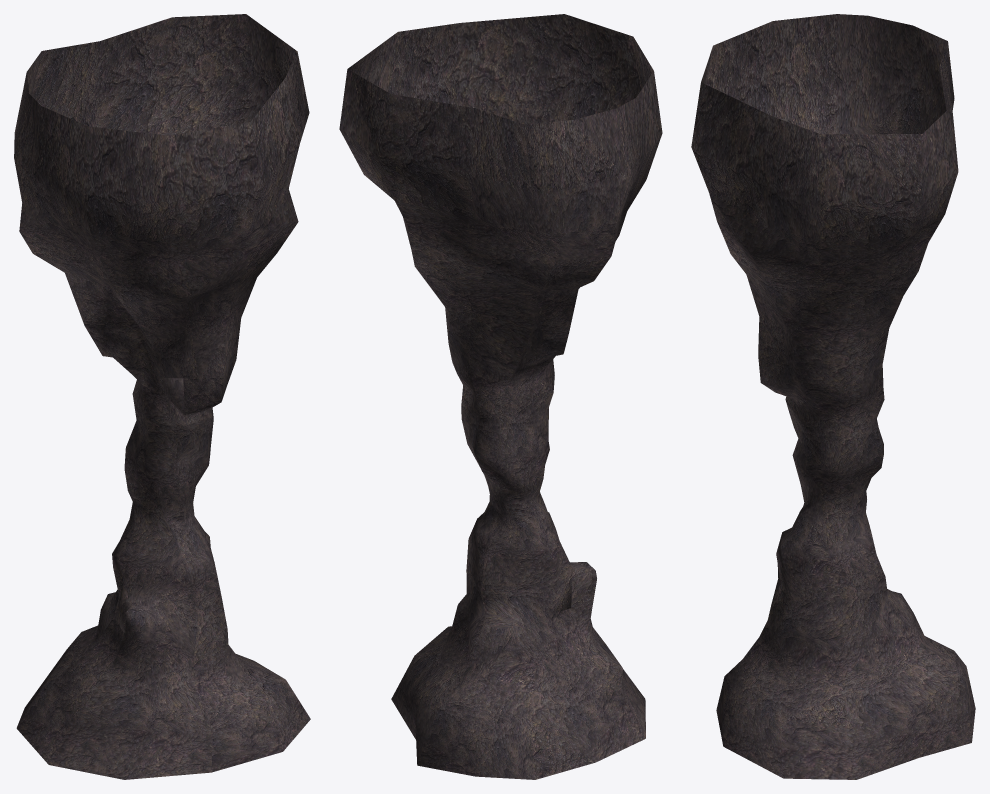
File: rock_pillar_05.fbx
3 views of the same model, side by side, from view 1: azimuth 30°, elevation 25°; view 2: azimuth 150°, elevation 25°; view 3: azimuth 270°, elevation 25° (orthographic).
Parts seen in each view (by area): view 1: rock_pillar_05; view 2: rock_pillar_05; view 3: rock_pillar_05.
Boxes of the visible parts, bbox=[...] form: rock_pillar_05: bbox=[14, 14, 310, 779]; rock_pillar_05: bbox=[339, 14, 662, 779]; rock_pillar_05: bbox=[691, 14, 975, 779].
Bounding box in the file's own units: 56.77 × 134 × 52.7.
